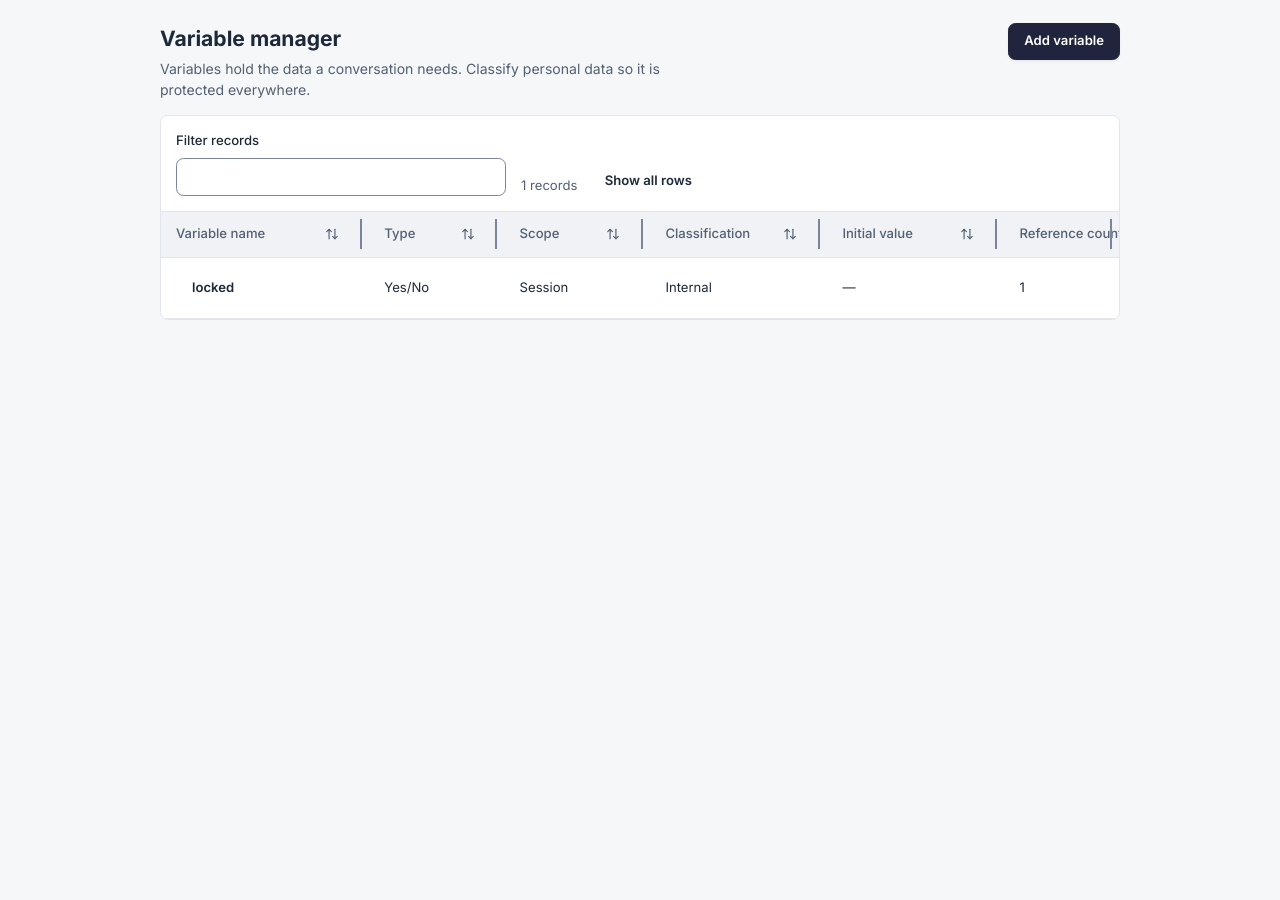
Test: prevents variable changes that affect a linked page
Click the button "Show all rows".
click(648, 181)  # box left=592, top=166, right=704, bottom=196
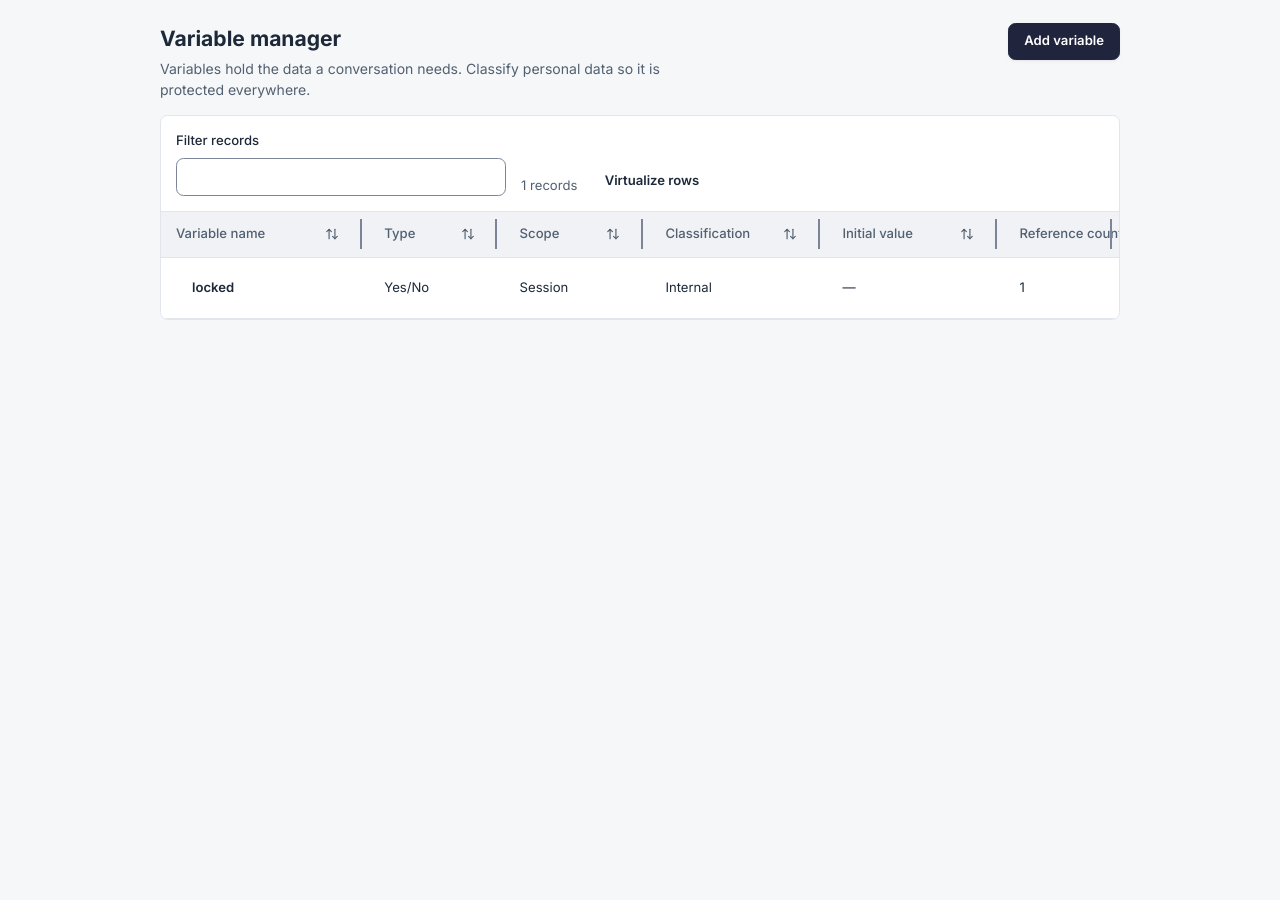
Click the button "locked".
click(213, 288)  # box left=176, top=269, right=250, bottom=306
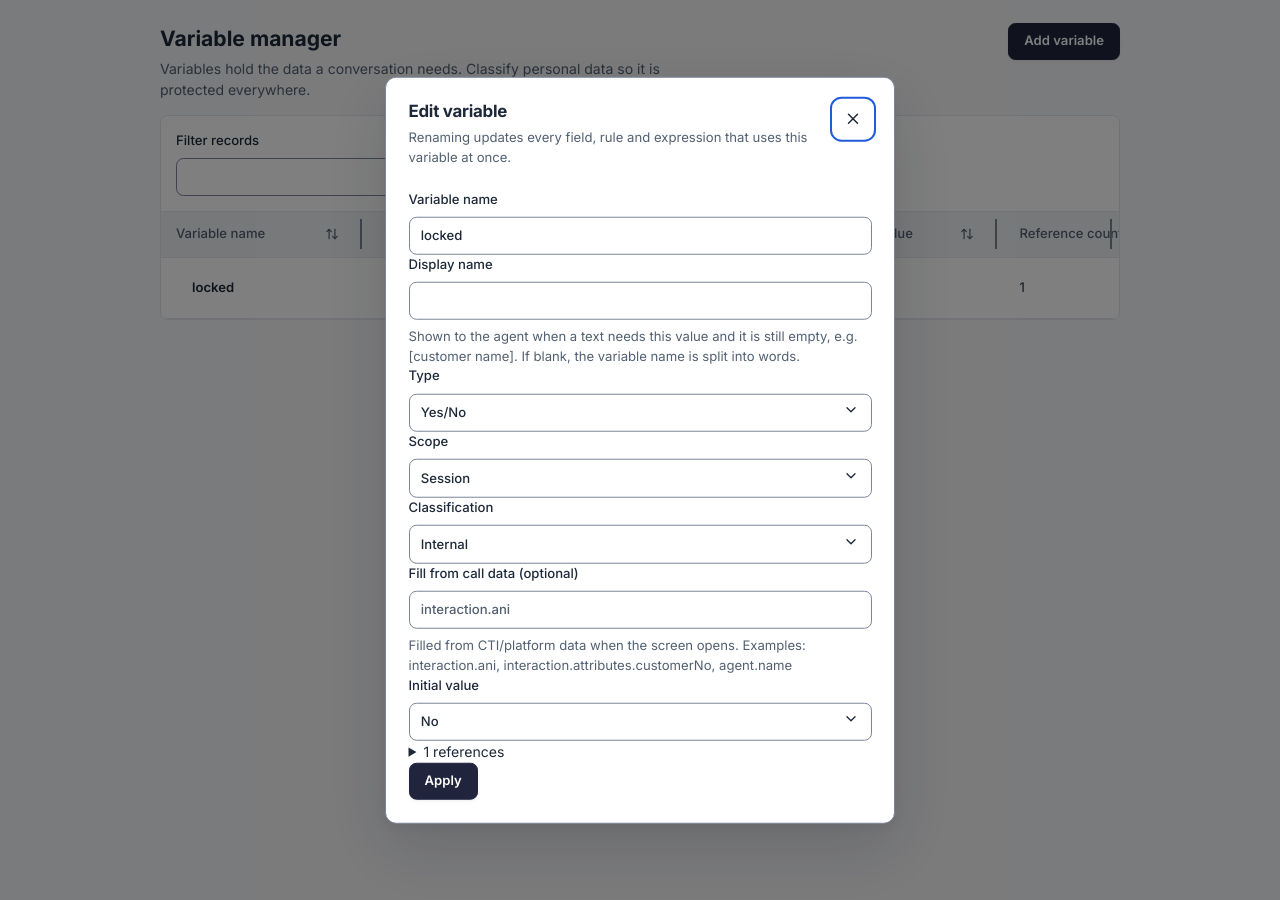
Result: the dialog is shown at left=385, top=77, right=895, bottom=823
Click the button "Apply".
click(443, 781)  # box left=408, top=762, right=478, bottom=800
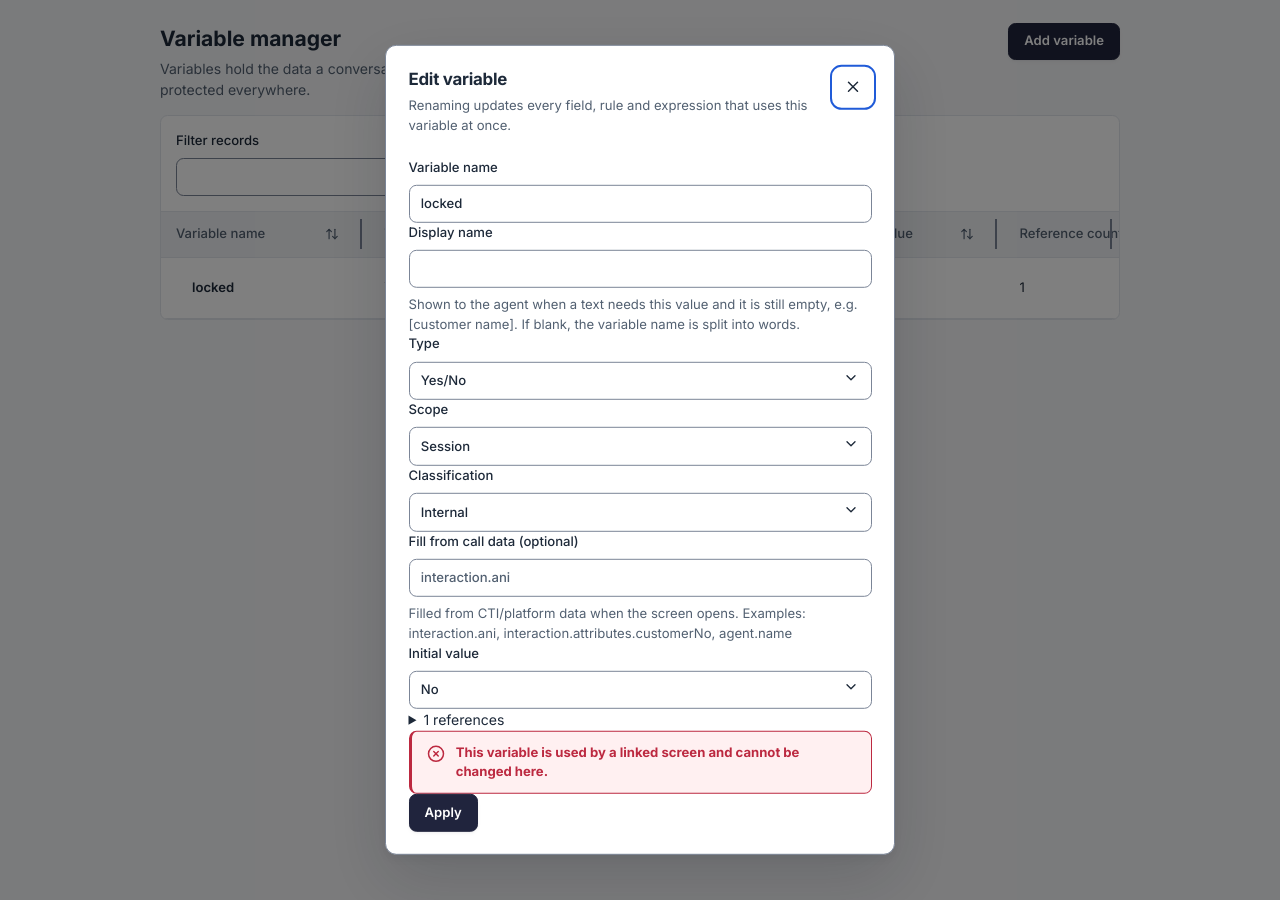
Result: the message "This variable is used by a linked screen and cannot be changed here." is shown at left=408, top=730, right=872, bottom=794
Click the button named "Close".
click(853, 87)  # box left=834, top=68, right=872, bottom=106
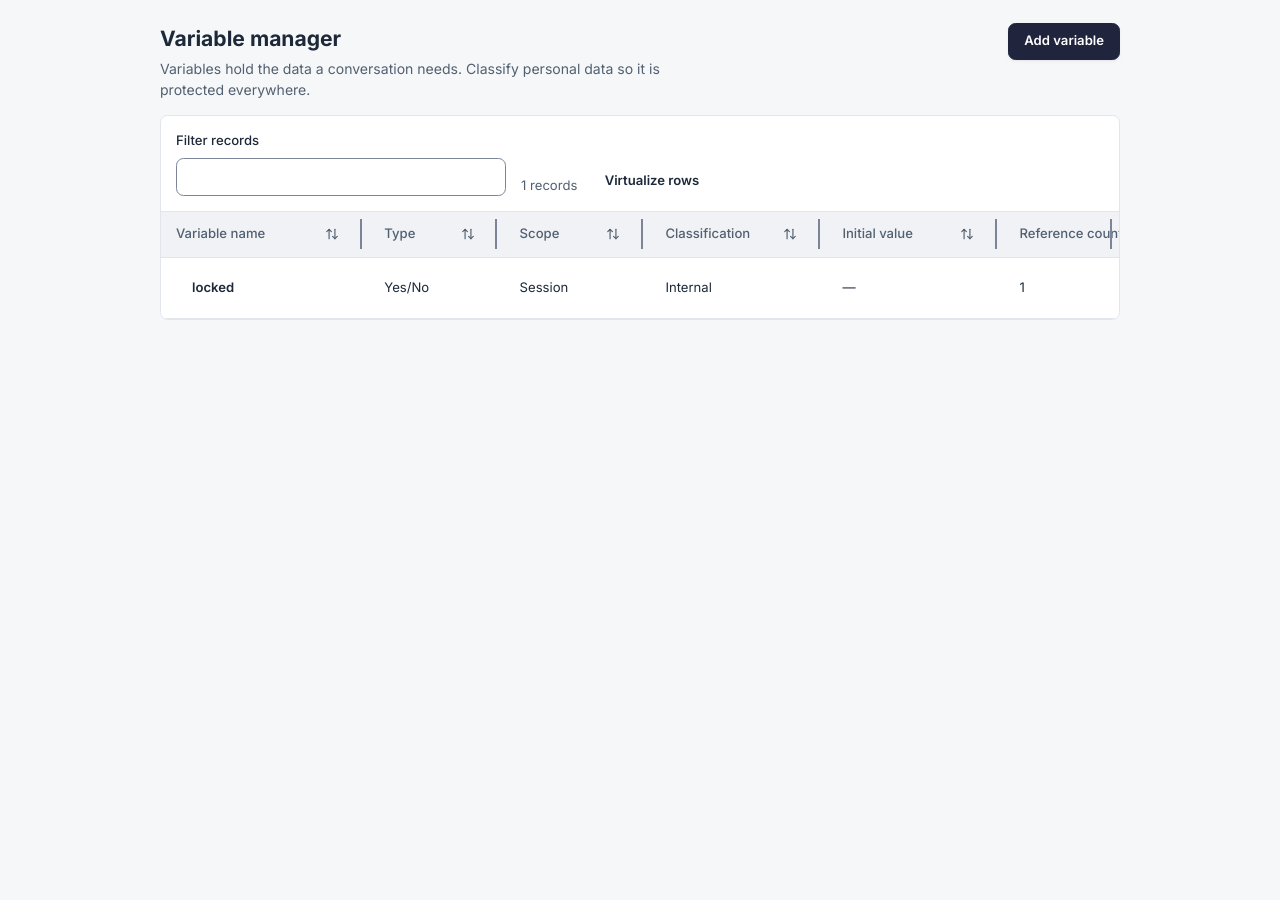
Result: the dialog is gone
